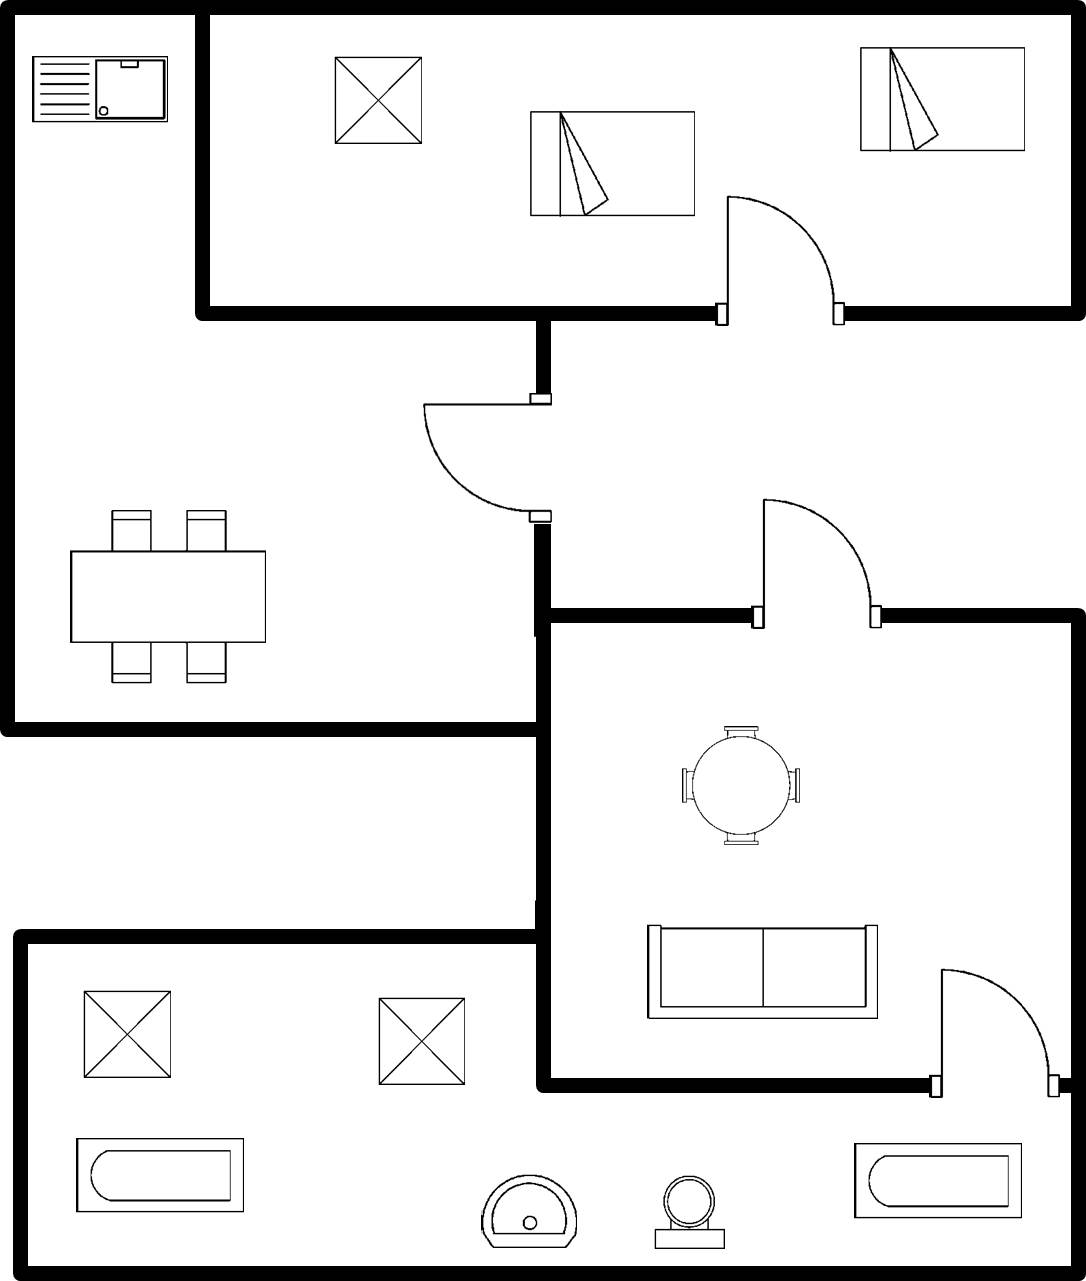bed: (517, 99, 703, 229), (848, 39, 1035, 161)
coffee_table: (322, 48, 433, 153), (75, 984, 183, 1088), (370, 990, 477, 1094)
dining_table: (62, 500, 279, 691)
large_sink: (640, 1168, 735, 1255)
large_sofa: (632, 915, 892, 1034)
round_table: (673, 716, 812, 855)
sink: (24, 46, 183, 133)
small_sink: (470, 1165, 584, 1255)
tub: (844, 1130, 1032, 1230), (65, 1130, 253, 1223)
